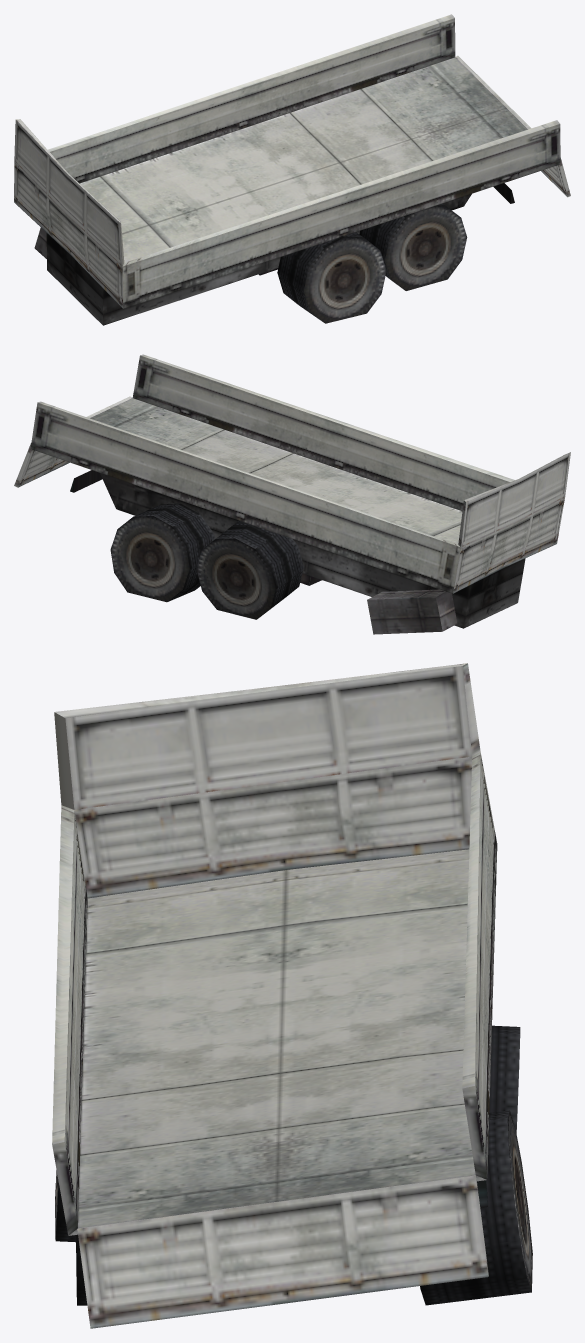
The model's file is truck.fbx.
3 renders of one model, top to bottom at view 1: azimuth 30°, elevation 25°; view 2: azimuth 150°, elevation 25°; view 3: azimuth 270°, elevation 25°, orthographic. The views are drawn at different scales.
Visible parts, largest first — view 1: truck01; view 2: truck01; view 3: truck01.
Part boxes in pixels (x1,y1,x2,y2): truck01: (14, 14, 570, 325); truck01: (14, 354, 570, 634); truck01: (52, 663, 532, 1328).
Bounding box in the file's own units: 515 × 191 × 238.
1 material, 1 textured.
